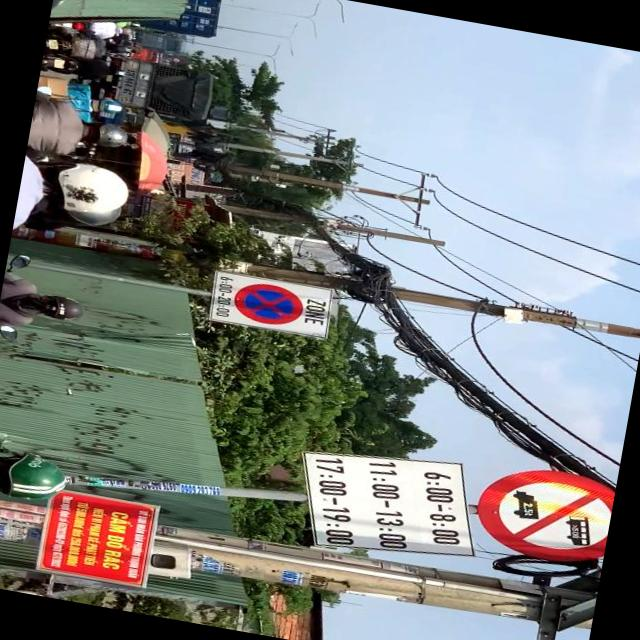P-130: (228, 278, 304, 328)
